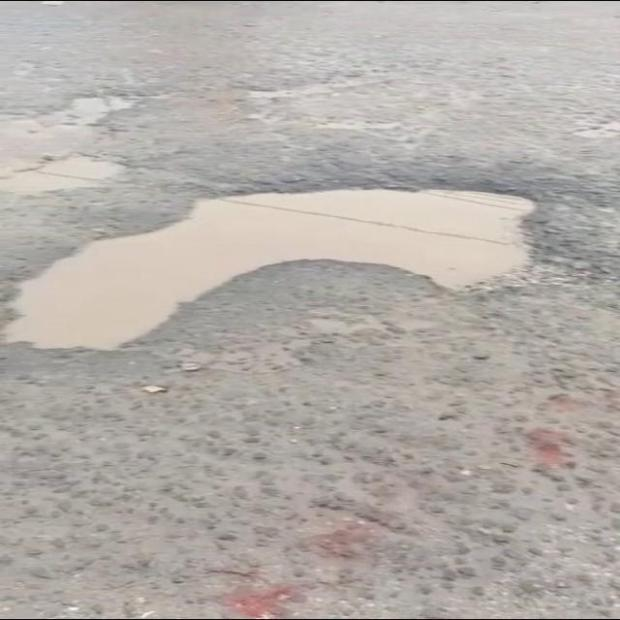lubang: (2, 190, 535, 350), (0, 97, 140, 236)
